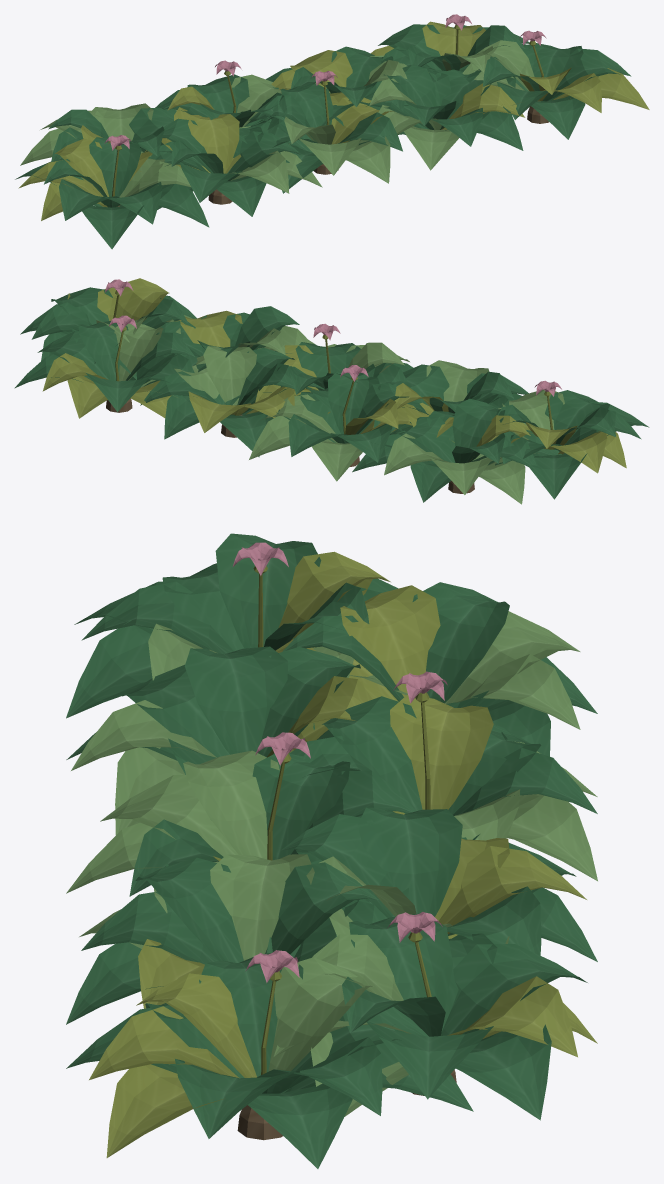
Rendered from AST-BOT-003_pool_basal_00.glb.
The picture shows the model from 3 angles, top to bottom: view 1: azimuth 30°, elevation 25°; view 2: azimuth 150°, elevation 25°; view 3: azimuth 270°, elevation 25°; orthographic projection. The views are drawn at different scales.
Parts seen in each view (by area): view 1: RT_AST-BOT-003_pool_basal_00__leaf_jade, RT_AST-BOT-003_pool_basal_00__leaf_olive, RT_AST-BOT-003_pool_basal_00__leaf_sage, RT_AST-BOT-003_pool_basal_00__flower, RT_AST-BOT-003_pool_basal_00__bark; view 2: RT_AST-BOT-003_pool_basal_00__leaf_jade, RT_AST-BOT-003_pool_basal_00__leaf_sage, RT_AST-BOT-003_pool_basal_00__leaf_olive, RT_AST-BOT-003_pool_basal_00__flower, RT_AST-BOT-003_pool_basal_00__bark; view 3: RT_AST-BOT-003_pool_basal_00__leaf_jade, RT_AST-BOT-003_pool_basal_00__leaf_sage, RT_AST-BOT-003_pool_basal_00__leaf_olive, RT_AST-BOT-003_pool_basal_00__flower, RT_AST-BOT-003_pool_basal_00__bark.
Part boxes in pixels (x1,y1,x2,y2): RT_AST-BOT-003_pool_basal_00__leaf_jade: (15,24,631,249); RT_AST-BOT-003_pool_basal_00__leaf_olive: (18,21,649,220); RT_AST-BOT-003_pool_basal_00__leaf_sage: (20,40,540,206); RT_AST-BOT-003_pool_basal_00__flower: (104,14,546,150); RT_AST-BOT-003_pool_basal_00__bark: (118,106,548,206); RT_AST-BOT-003_pool_basal_00__leaf_jade: (14,287,649,502); RT_AST-BOT-003_pool_basal_00__leaf_sage: (96,314,564,504); RT_AST-BOT-003_pool_basal_00__leaf_olive: (42,278,626,473); RT_AST-BOT-003_pool_basal_00__flower: (105,279,561,396); RT_AST-BOT-003_pool_basal_00__bark: (106,398,474,493); RT_AST-BOT-003_pool_basal_00__leaf_jade: (66,533,597,1168); RT_AST-BOT-003_pool_basal_00__leaf_sage: (66,611,597,1116); RT_AST-BOT-003_pool_basal_00__leaf_olive: (89,551,597,1157); RT_AST-BOT-003_pool_basal_00__flower: (233,542,447,982); RT_AST-BOT-003_pool_basal_00__bark: (237,1070,456,1140).
Bounding box in the file's own units: 2.17 × 0.3264 × 0.86.
Materials: 5 (5 with a texture image).
